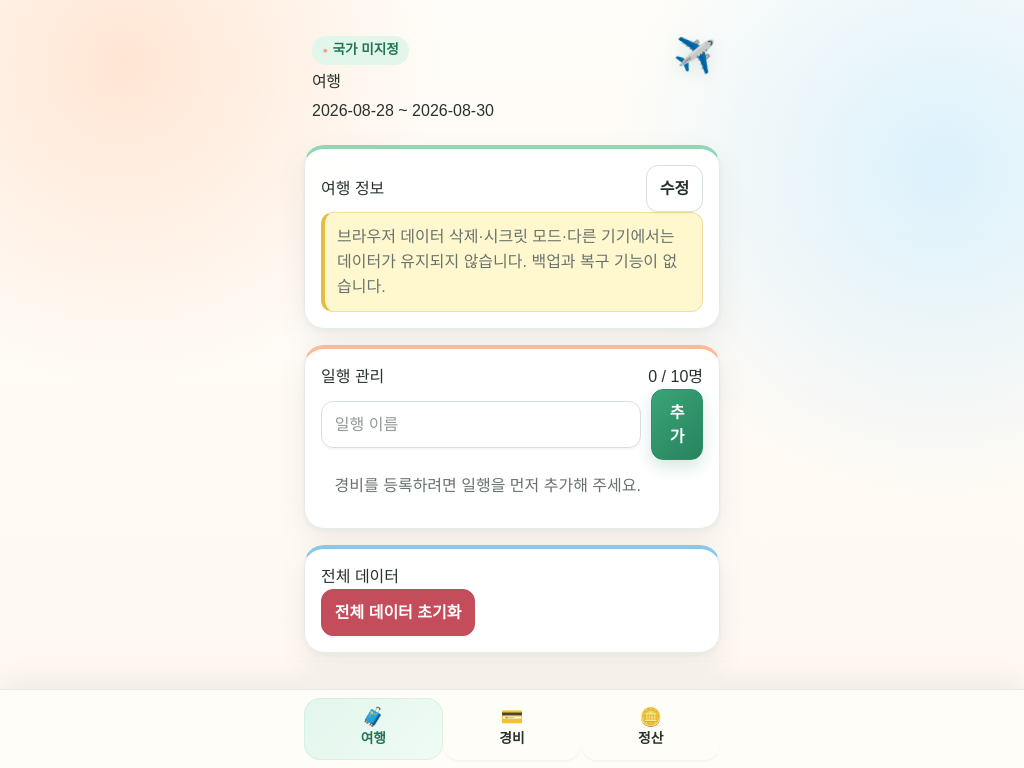
AppShell › 여행·경비 내비게이션과 각 빈 상태를 전환한다
Expected: the heading "여행 정보" is shown, [321,177,384,201]
Click the button "경비" at (512, 729), box [443,698,581,760]
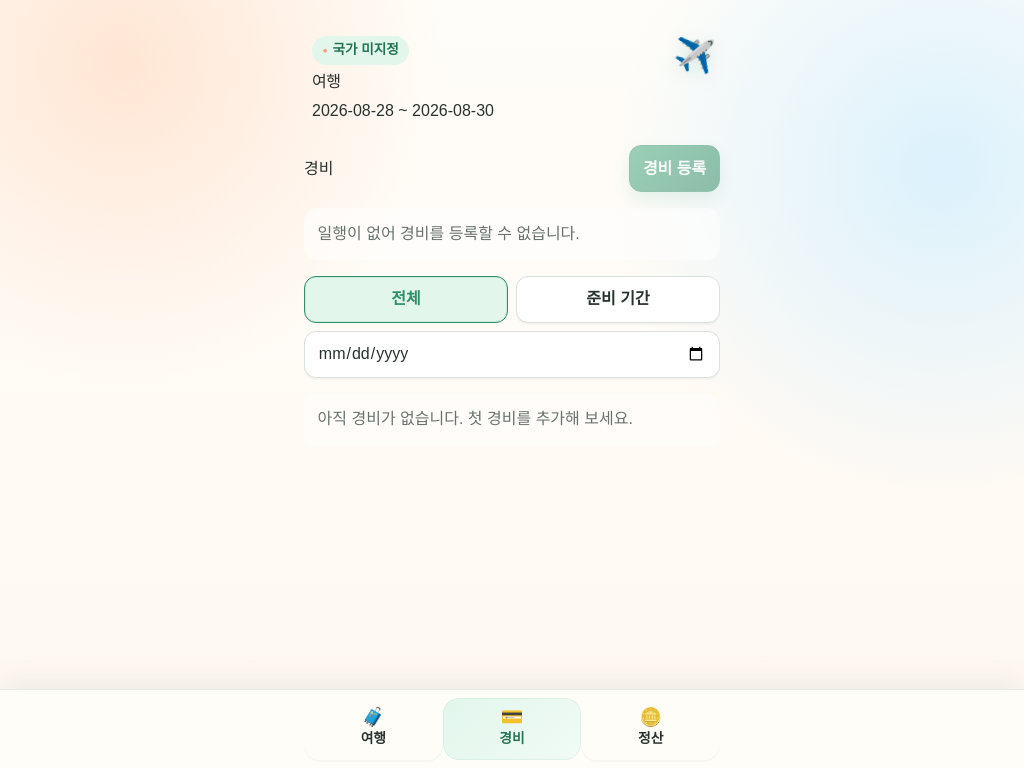
Expected: the text "일행이 없어 경비를 등록할 수 없습니다." is shown, [304,208,720,260]
Expected: the text "아직 경비가 없습니다. 첫 경비를 추가해 보세요." is shown, [304,394,720,446]
Click the button "정산" at (651, 729), box [581,698,720,760]
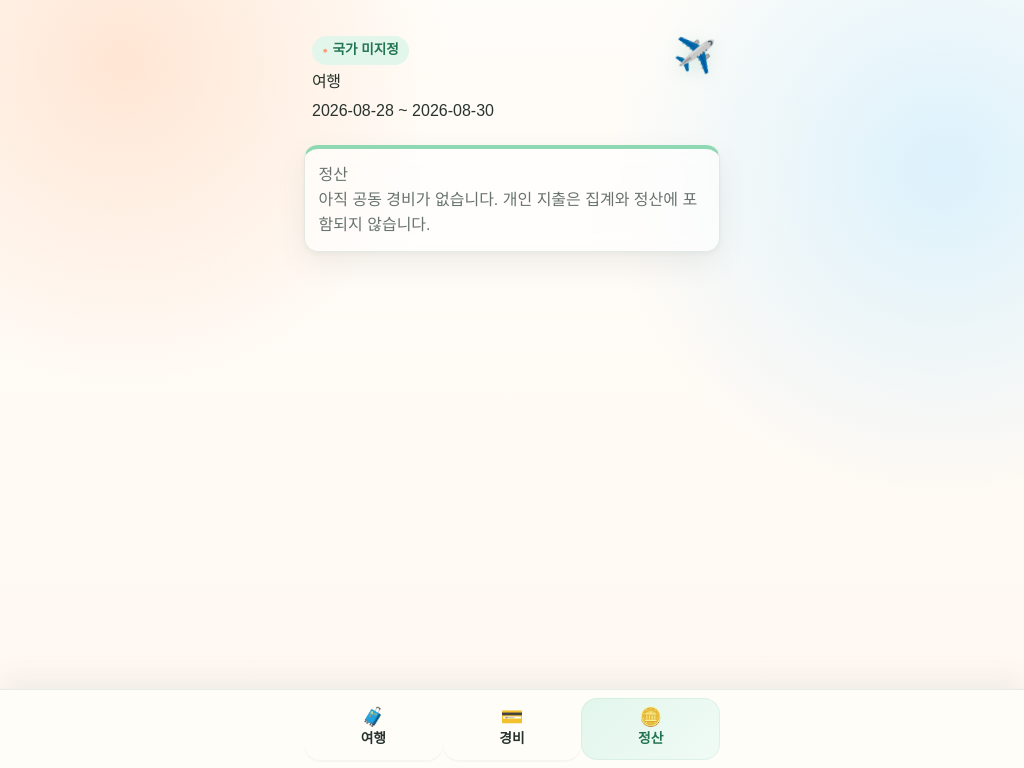
Expected: the text "아직 공동 경비가 없습니다. 개인 지출은 집계와 정산에 포함되지 않습니다." is shown, [319,188,705,237]
